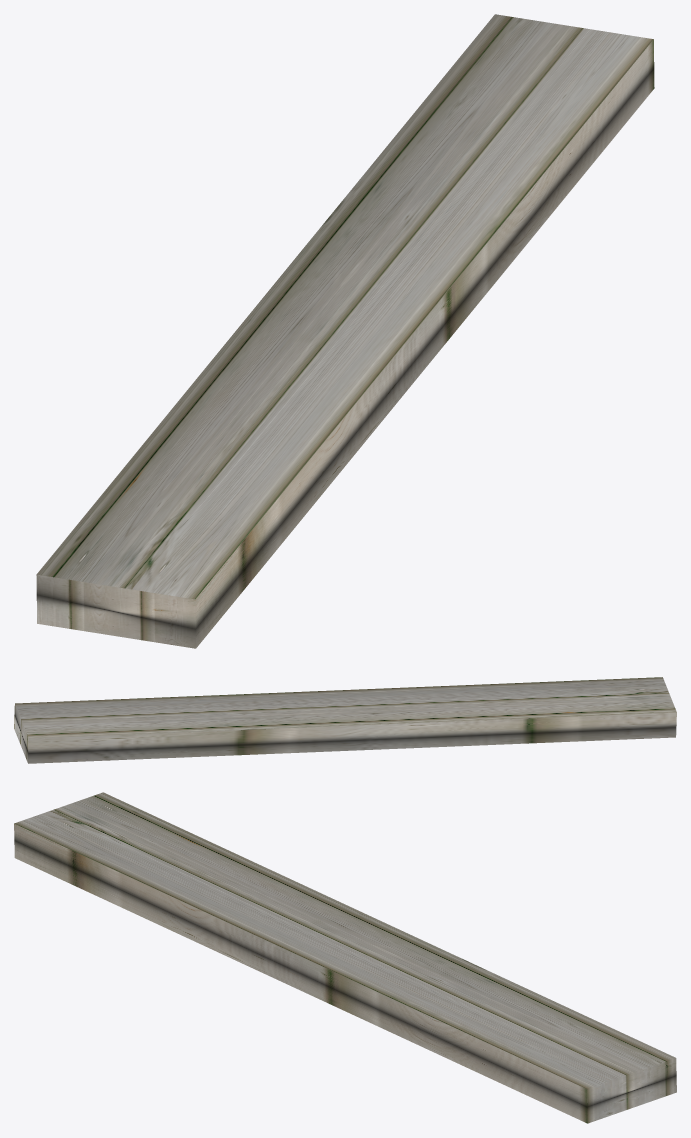
File: cube.084_lev3.glb
3 views of the same model, one above another, from view 1: azimuth 30°, elevation 25°; view 2: azimuth 150°, elevation 25°; view 3: azimuth 270°, elevation 25° (orthographic). The views are drawn at different scales.
Visible parts, largest first — view 1: cube.084_lev3; view 2: cube.084_lev3; view 3: cube.084_lev3.
Part boxes in pixels (x1,y1,x2,y2): cube.084_lev3: (36,14,654,648); cube.084_lev3: (14,677,676,763); cube.084_lev3: (14,792,676,1123).
Bounding box in the file's own units: 0.4358 × 0.0385 × 0.3764.
Materials: 1 (1 with a texture image).
